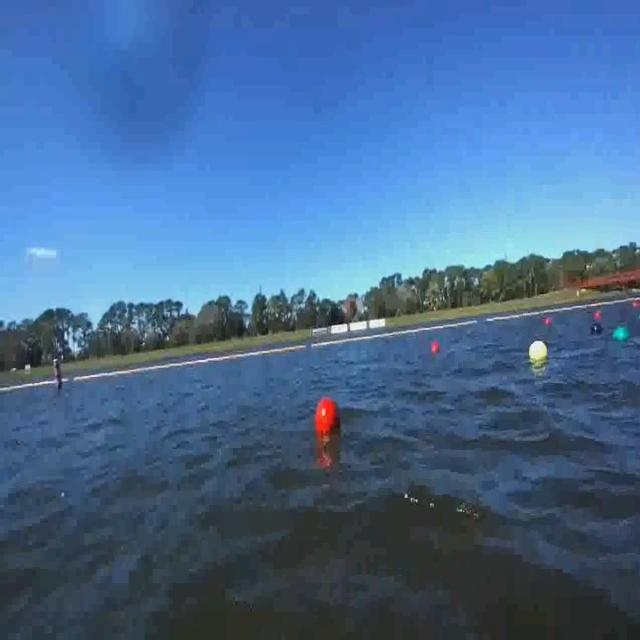black-buoy: (591, 324, 604, 334)
green-buoy: (615, 327, 631, 343)
red-buoy: (313, 397, 341, 443), (433, 341, 442, 355), (594, 311, 602, 320)
yellow-buoy: (531, 342, 551, 364)
